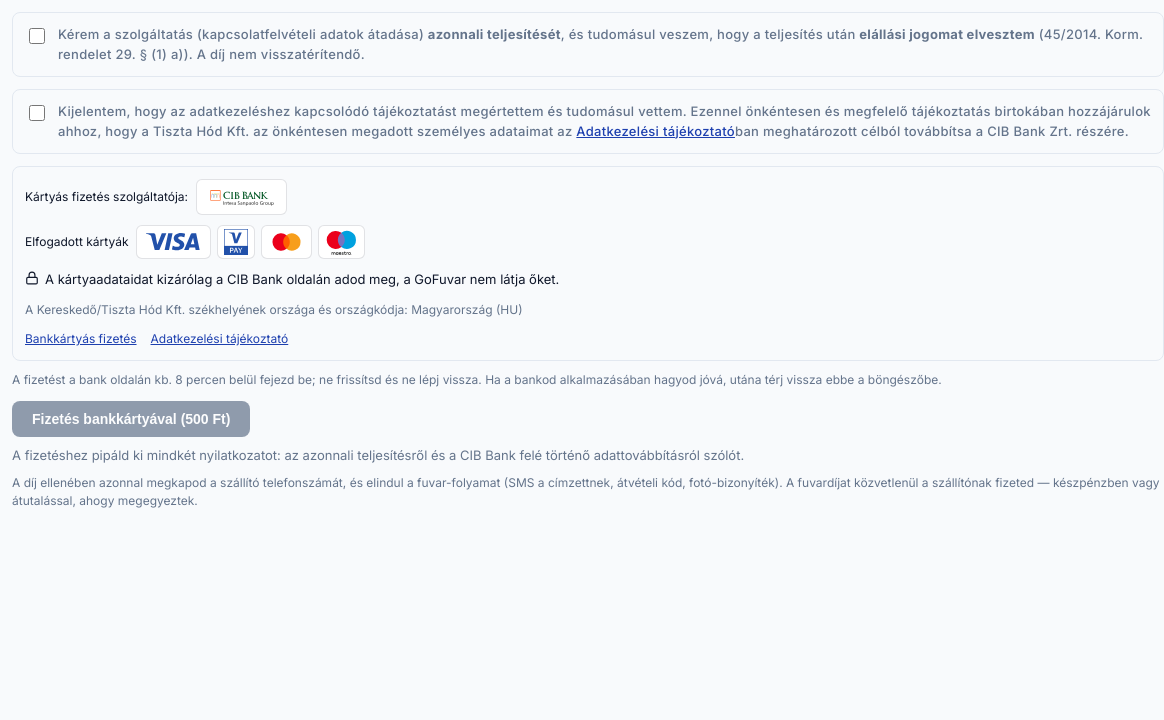
Test: útválasztás: CIB átirányítás vs stub › CIB-mód: a kötelező infó-blokk látszik, a fizetés a hop-linkre irányít
The width and height of the screenshot is (1164, 720).
Check: the text "Kártyás fizetés szolgáltatója:" is shown, box x1=25 y1=187 x2=188 y2=207
Check: the text "Elfogadott kártyák" is shown, box x1=25 y1=232 x2=128 y2=252
Click the 1st checkbox.
click(37, 36)  # box x1=29 y1=28 x2=45 y2=44
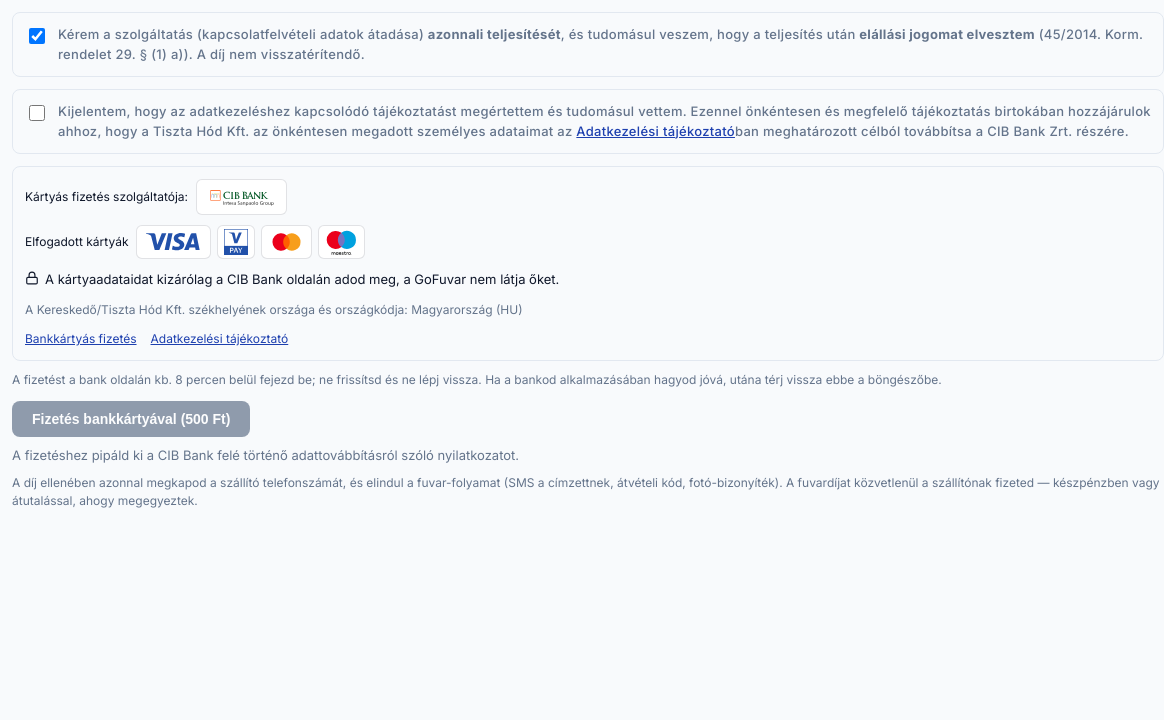
Click the 2nd checkbox.
click(37, 113)  # box x1=29 y1=105 x2=45 y2=121
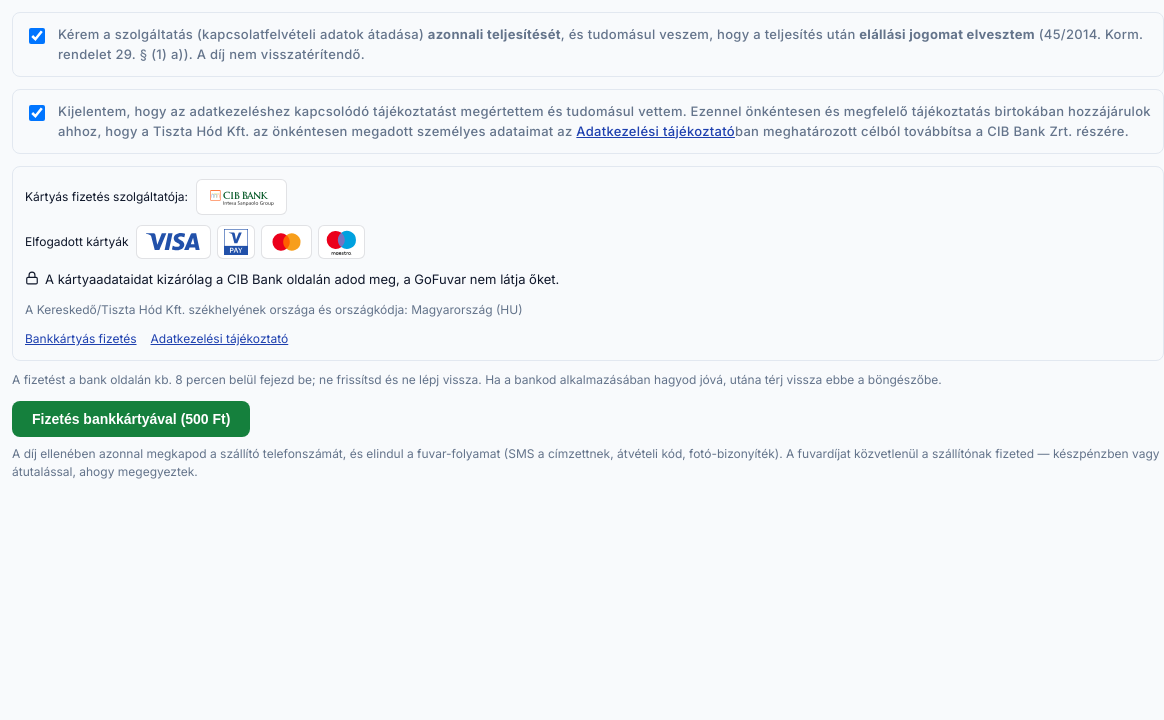
Click the button "Fizetés bankkártyával (500 Ft)".
click(131, 419)  # box x1=12 y1=401 x2=250 y2=437
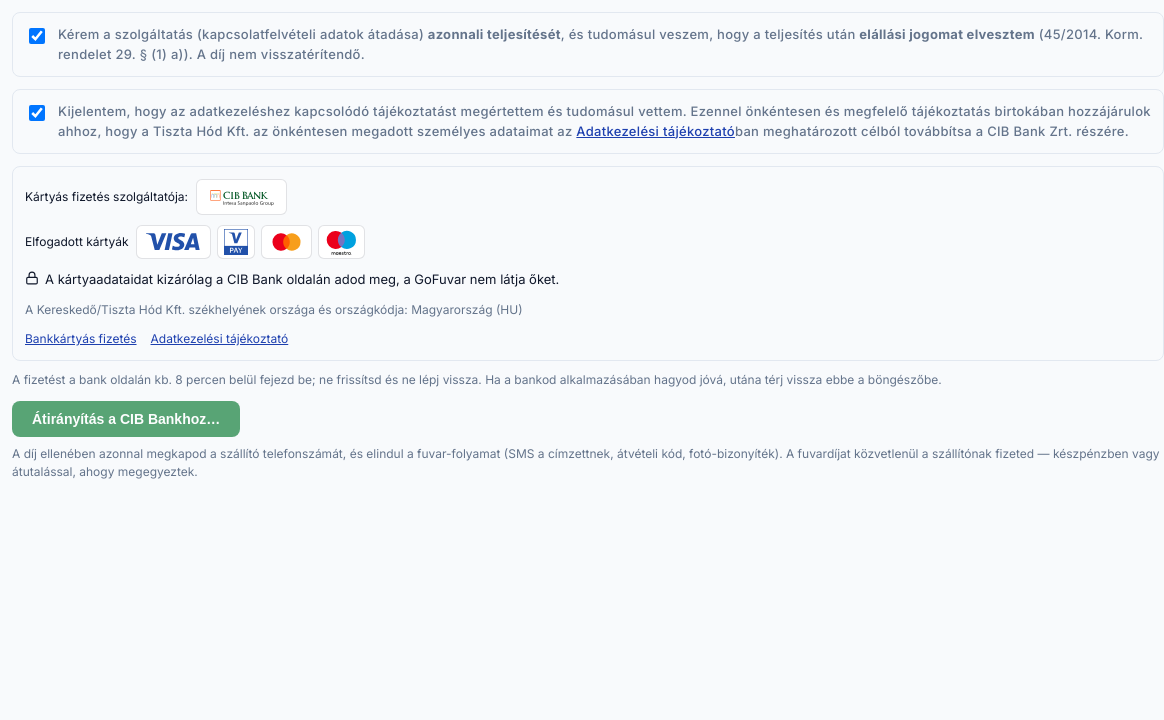
Check: the button "Átirányítás a CIB Bankhoz…" is disabled, box x1=12 y1=401 x2=240 y2=437
